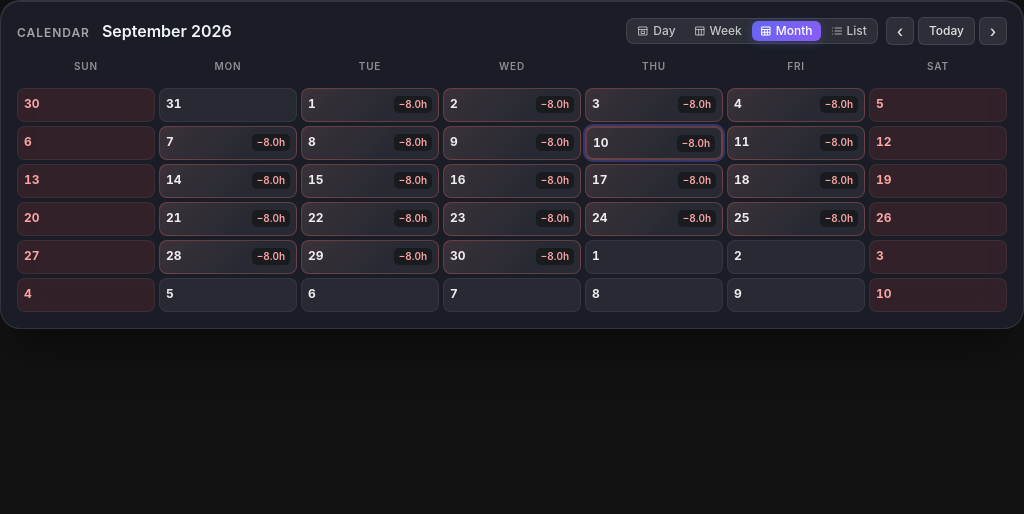
it: week national holidays › marks 17 August as a holiday when navigating from 2026-09-10
Click the radio button labelled "Week" at [718, 31], box [686,21,750,41]
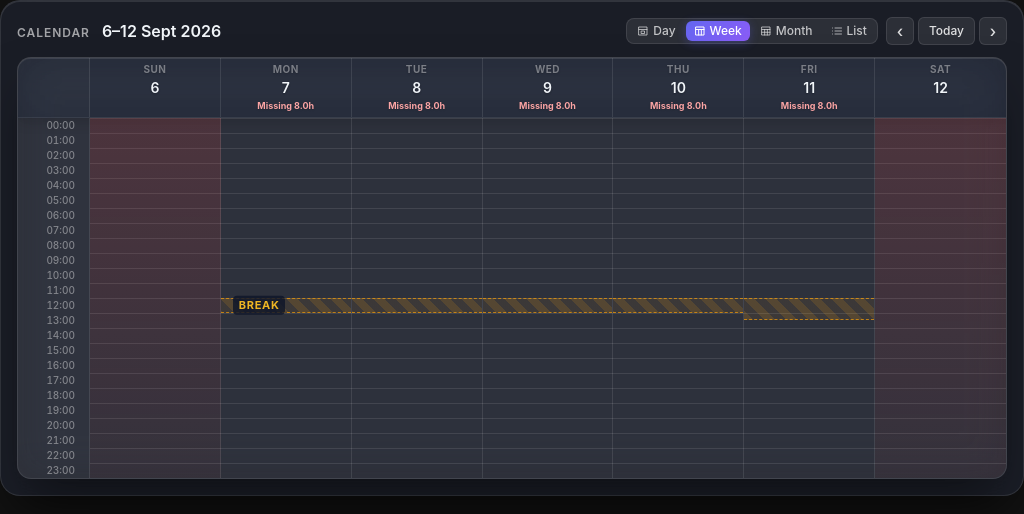
Click the button named "Previous period" at [900, 31], box [886,17,914,45]
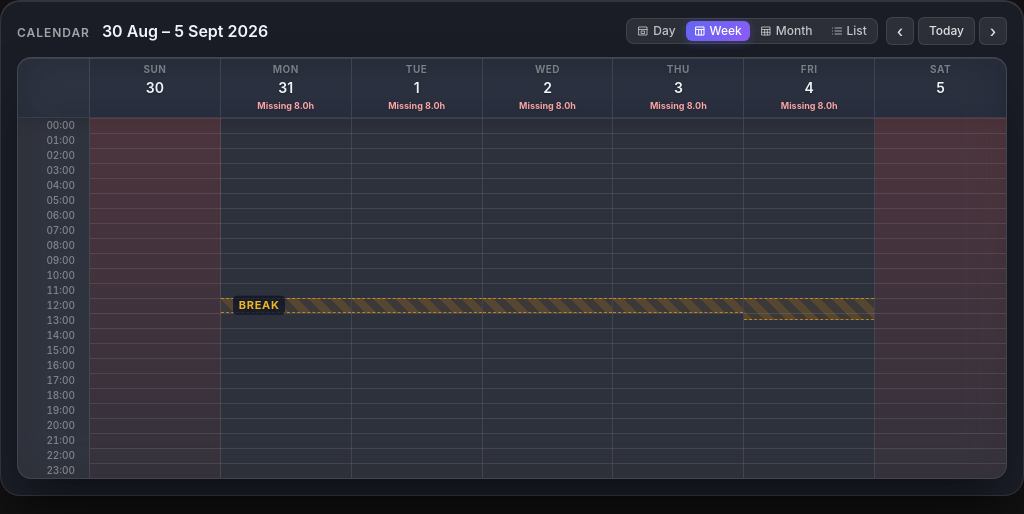
Click the button named "Previous period" at [900, 31], box [886,17,914,45]
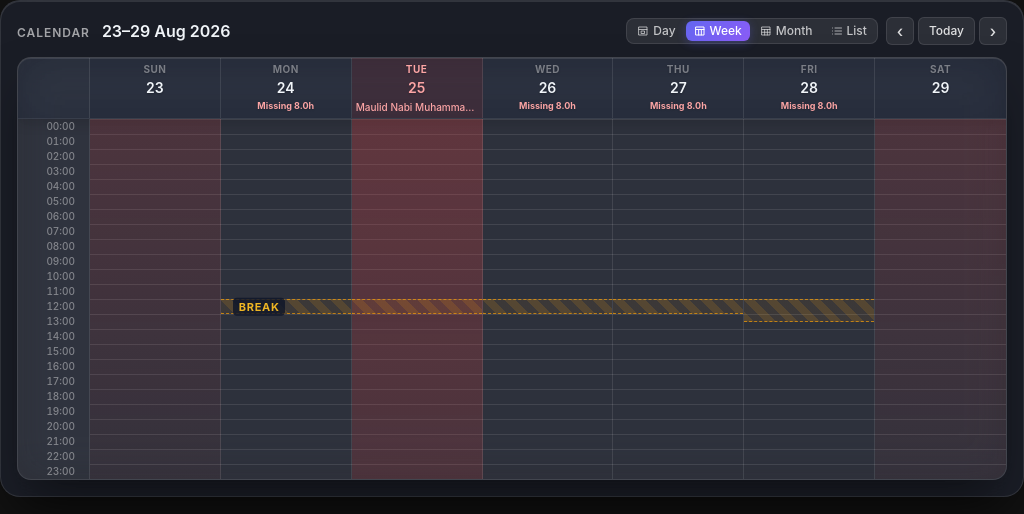
Click the button named "Previous period" at [900, 31], box [886,17,914,45]
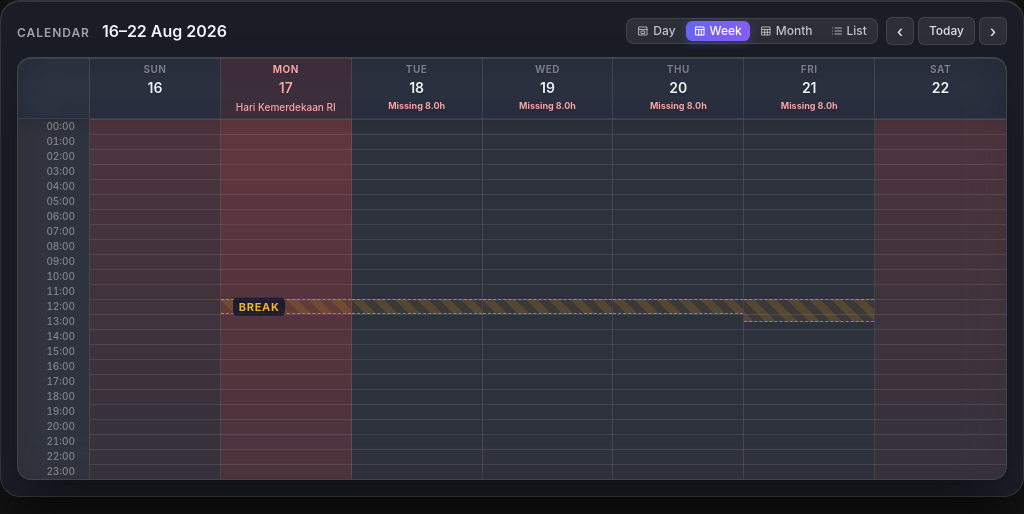
Result: the element with class "timeline-day-col-header" shows "17" at [279,79,293,96]
Result: the text with class "week-holiday-name" reads "Hari Kemerdekaan RI" at [236,101,336,113]
